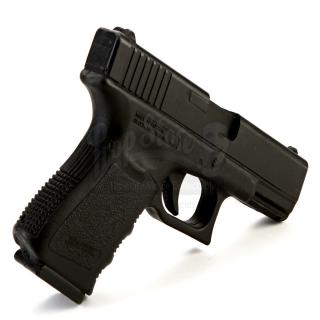gun: (11, 16, 315, 306)
